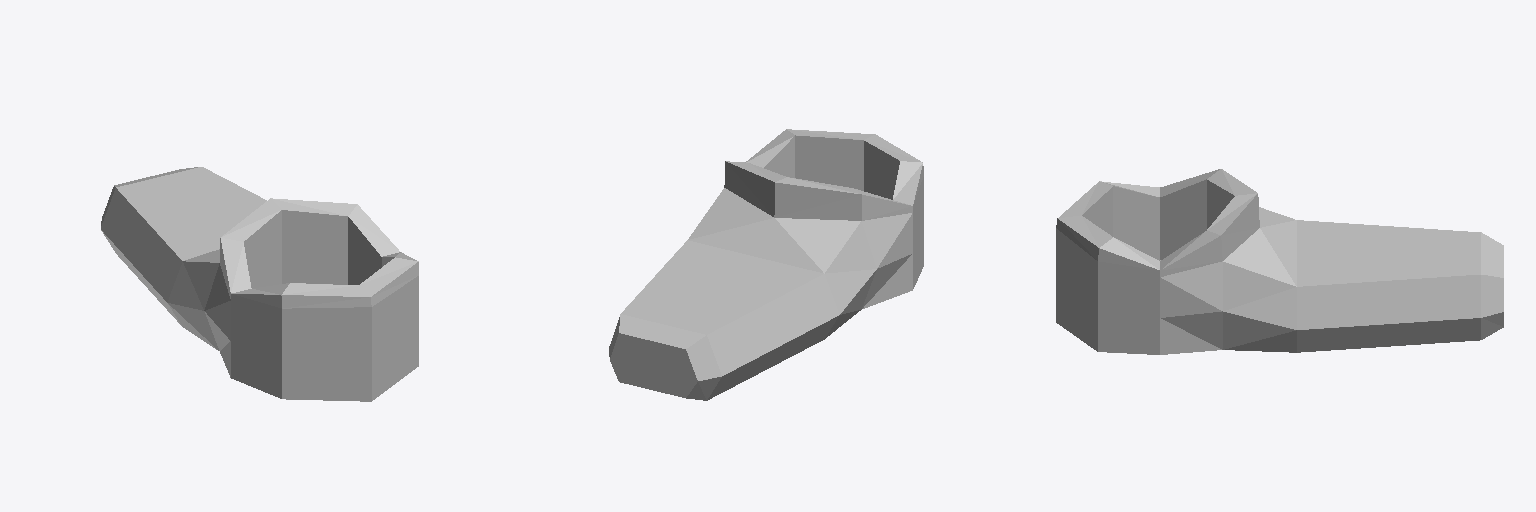
Rendered from shoe.obj.
3 renders of one model, left to right at view 1: azimuth 30°, elevation 25°; view 2: azimuth 150°, elevation 25°; view 3: azimuth 270°, elevation 25°, orthographic.
Visible parts, largest first — view 1: Cube.031; view 2: Cube.031; view 3: Cube.031.
Boxes of the visible parts, <box> form: Cube.031: <box>101,167,418,401</box>; Cube.031: <box>609,129,923,400</box>; Cube.031: <box>1056,169,1503,354</box>.
Bounding box in the file's own units: 0.4076 × 0.2961 × 0.9293.